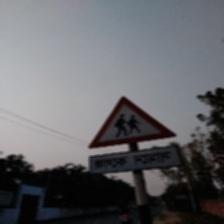College-in-front: (80, 90, 186, 184)
